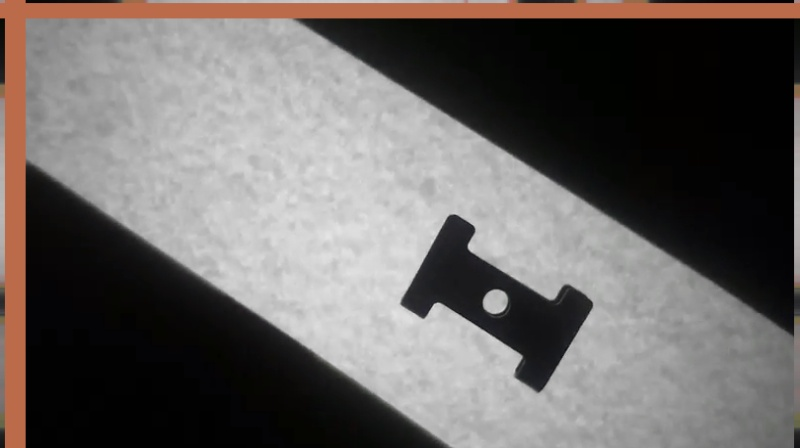O002: (393, 210, 594, 393)
